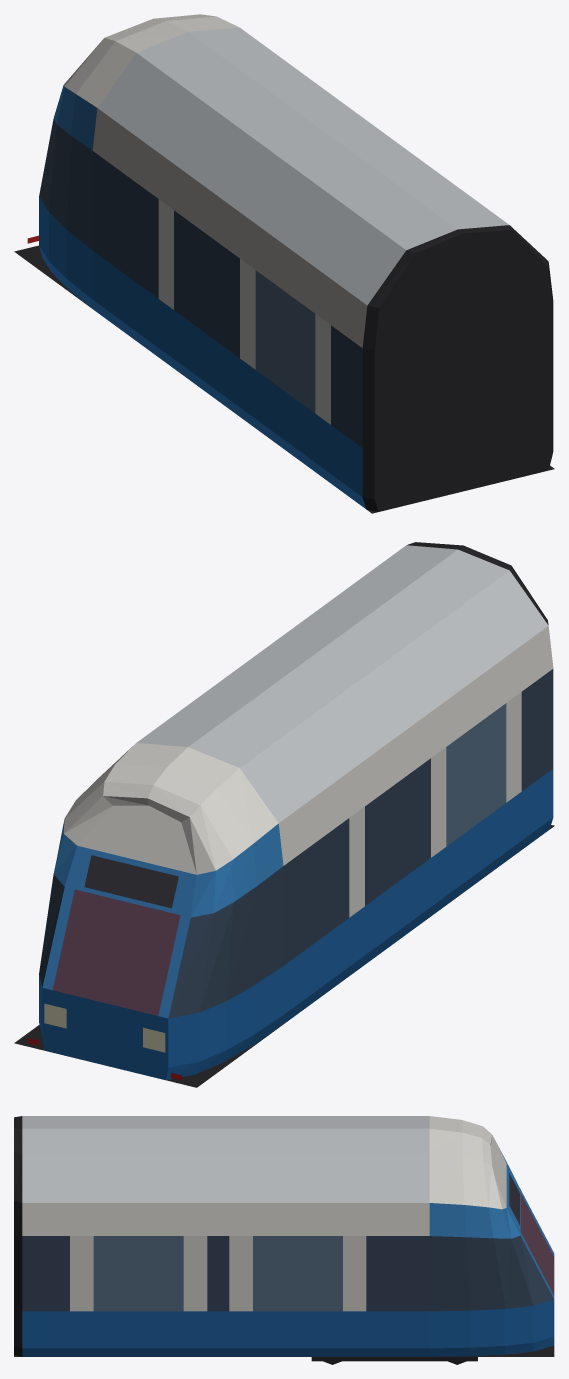
File: cobra_kopf.glb
The picture shows the model from 3 angles, top to bottom: view 1: azimuth 30°, elevation 25°; view 2: azimuth 150°, elevation 25°; view 3: azimuth 270°, elevation 25°; orthographic projection. The views are drawn at different scales.
Visible parts, largest first — view 1: body; view 2: body, display; view 3: body, display.
Part boxes in pixels (left/top/right/bottom): body: left=14, top=14, right=554, bottom=513; body: left=14, top=542, right=554, bottom=1087; display: left=84, top=855, right=178, bottom=908; body: left=14, top=1116, right=554, bottom=1364; display: left=509, top=1173, right=519, bottom=1224.
Size of the model in its own units: 2.4 by 3.4 by 7.81.
